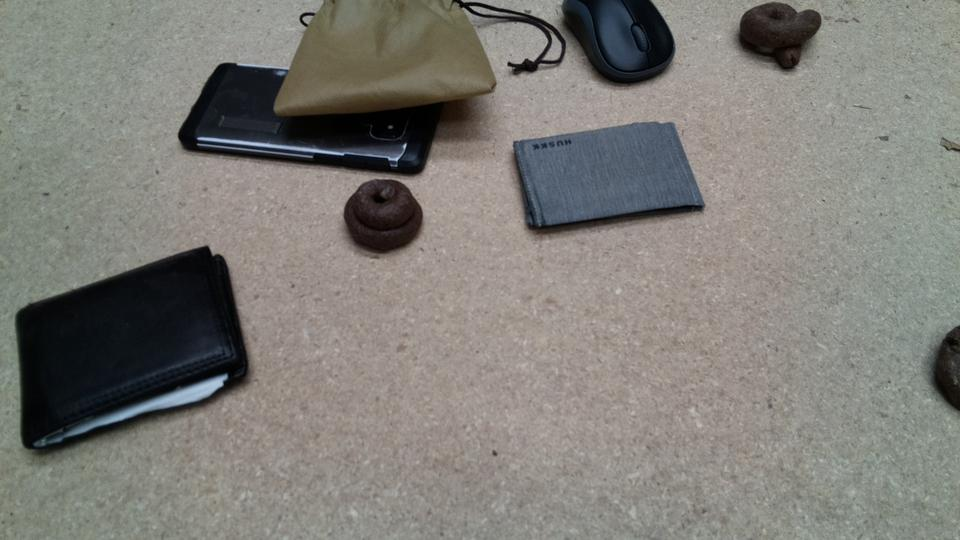poop: (341, 175, 424, 257), (737, 1, 823, 71), (930, 317, 960, 416)
